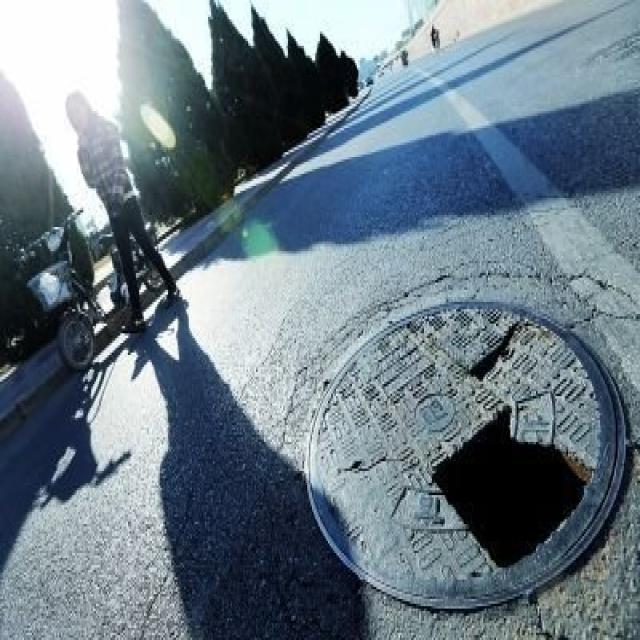manhole: (292, 271, 630, 594)
